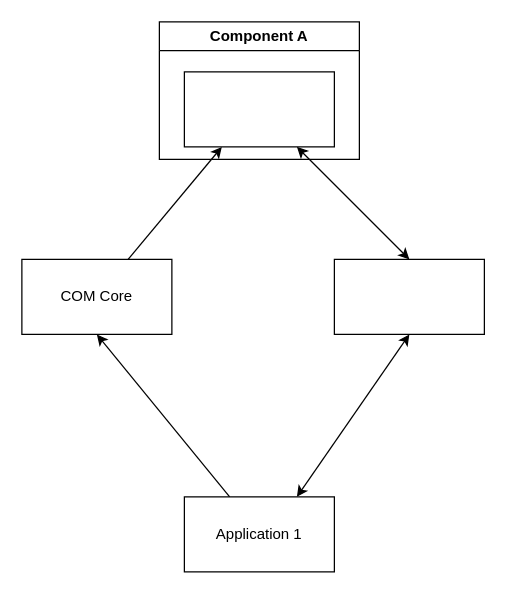
The diagram is 506 pixels wide and 594 high, and some of its shapes have lost their labels. Here are the shapes that lost their labels. From the top down, the box of each, then its label:
(183, 71, 334, 147): Object Implementation 1
(333, 258, 484, 334): Object interface 1
